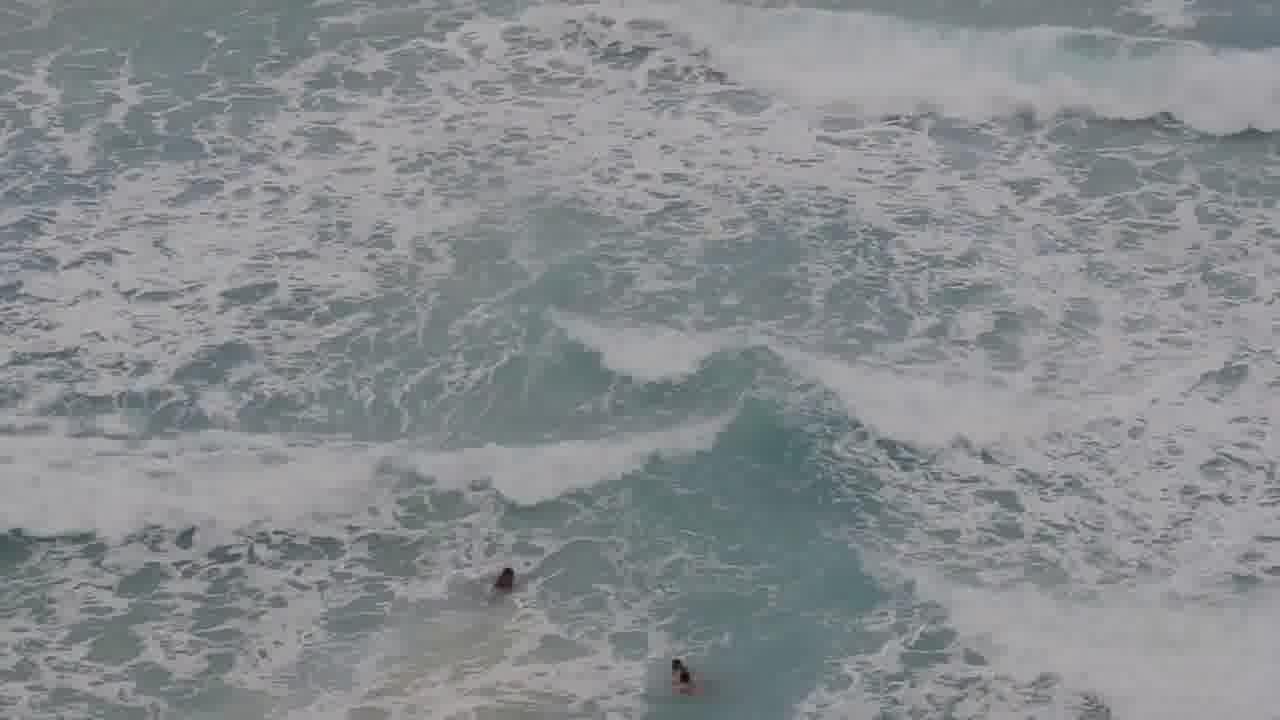human: (483, 541, 538, 602), (660, 644, 702, 699)
